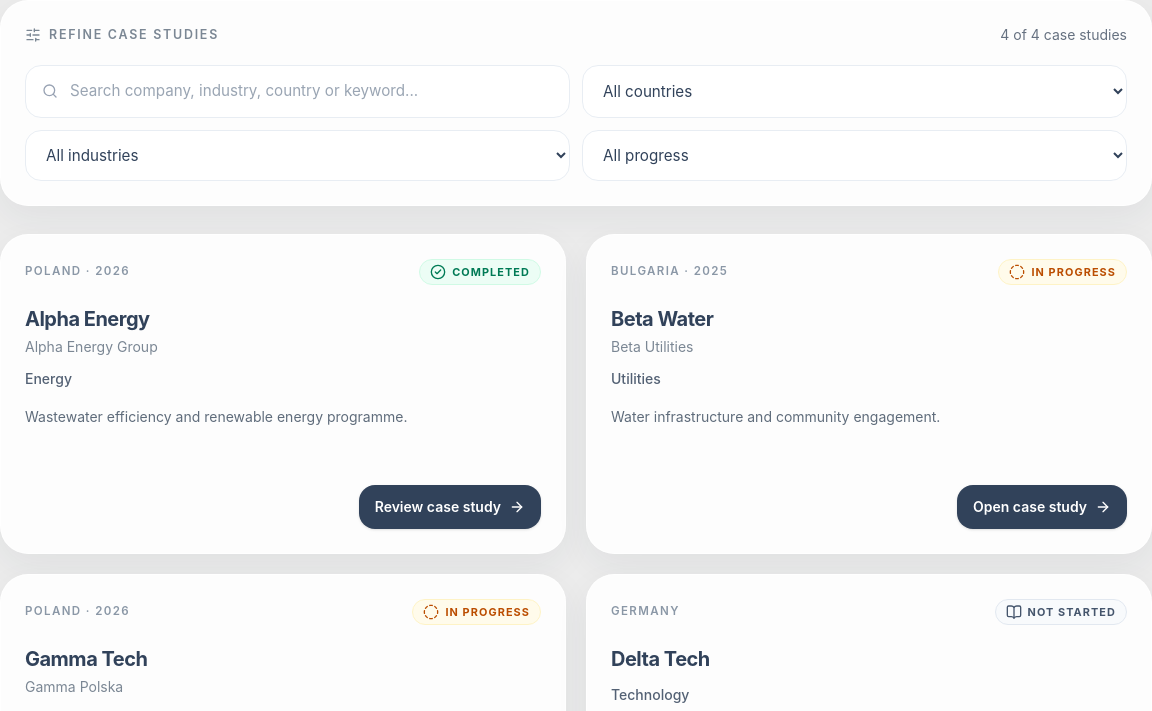
Test: ePortfolio library UI › shows the zero-results state and clear filters restores the library
This screenshot has width=1152, height=711.
Select "Bulgaria" in the dropdown named "Filter by country". click: {"x": 854, "y": 91}
box: [582, 65, 1127, 118]
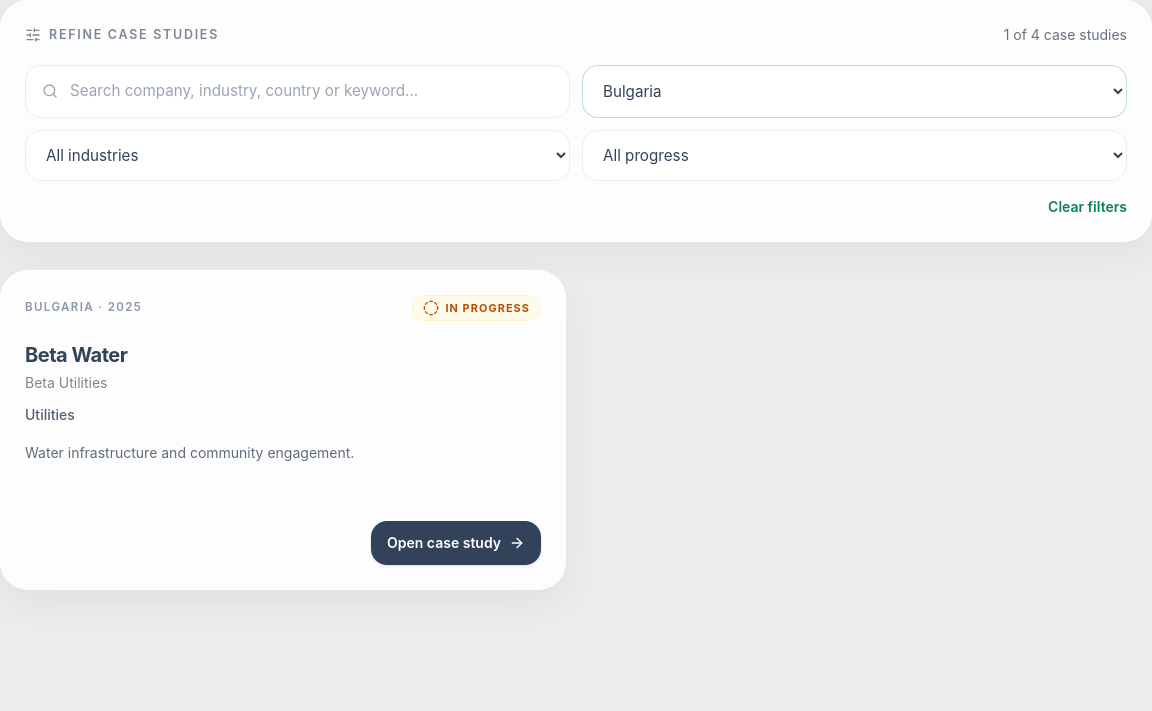
Select "Technology" in the dropdown named "Filter by industry". click: {"x": 298, "y": 155}
box: [25, 130, 570, 181]
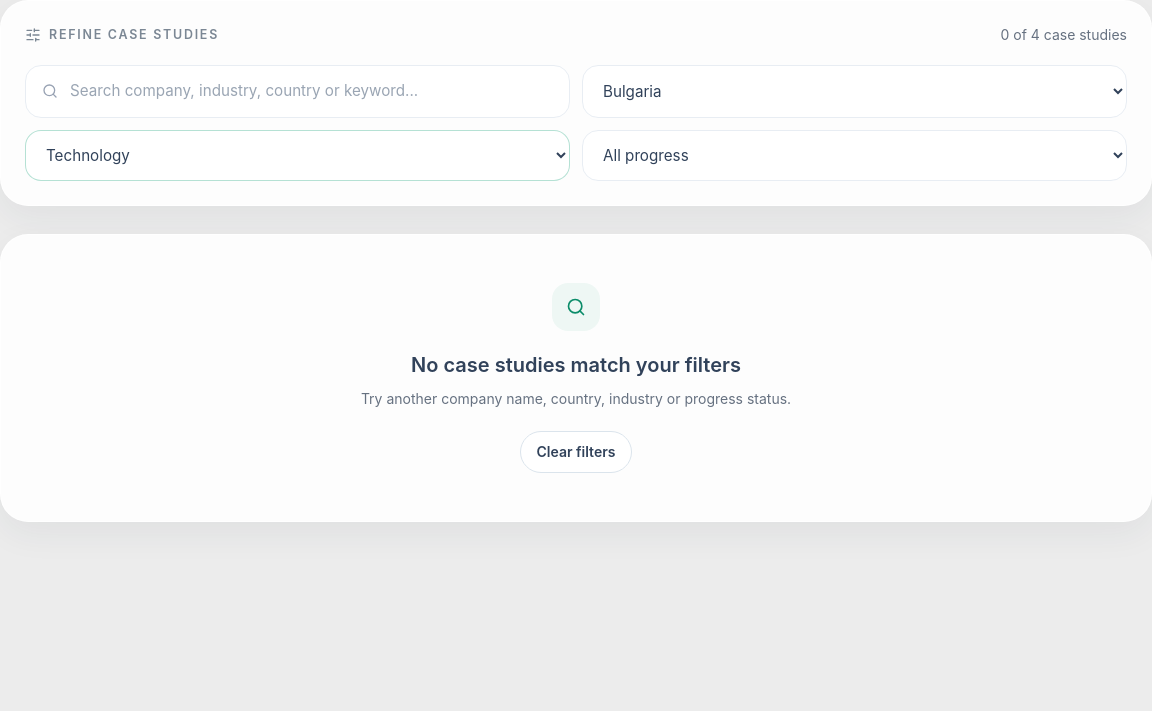
Expected: the heading "No case studies match your filters" is shown, [411, 353, 741, 377]
Expected: the text "0 of 4 case studies" is shown, [1000, 25, 1127, 45]
Click the button "Clear filters". click: {"x": 576, "y": 452}
box: [520, 431, 632, 473]
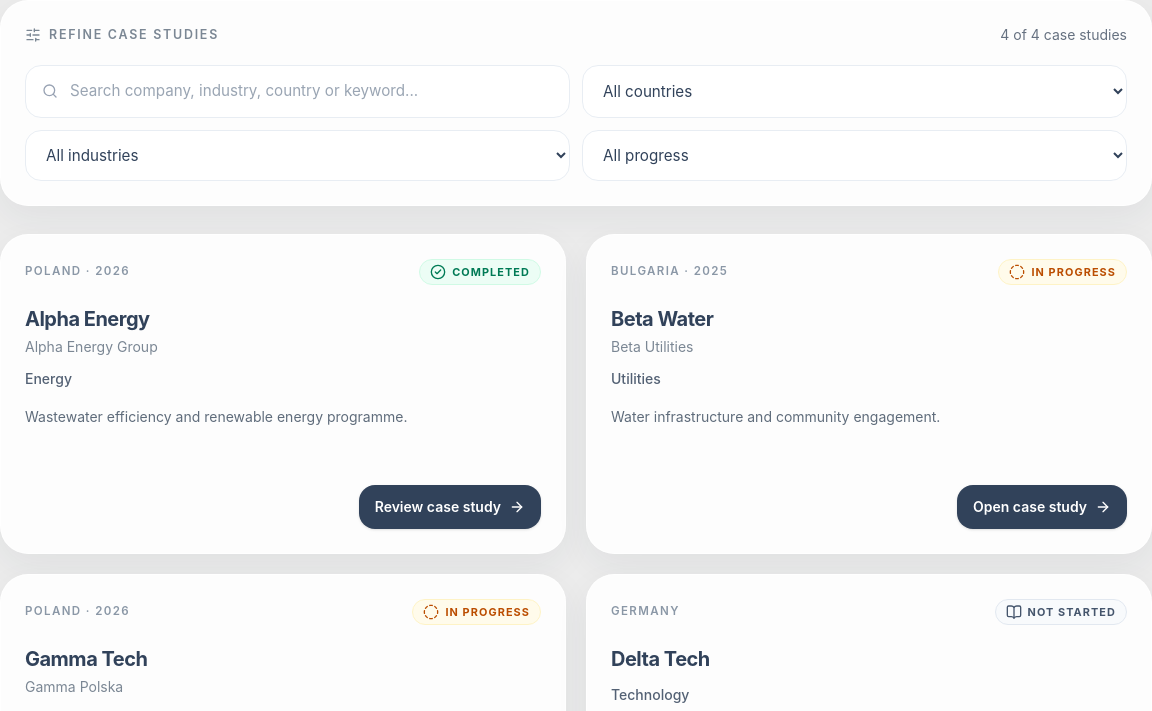
Expected: the heading "Alpha Energy" is shown, [25, 307, 150, 331]
Expected: the heading "Beta Water" is shown, [611, 307, 713, 331]
Expected: the heading "Gamma Tech" is shown, [25, 647, 147, 671]
